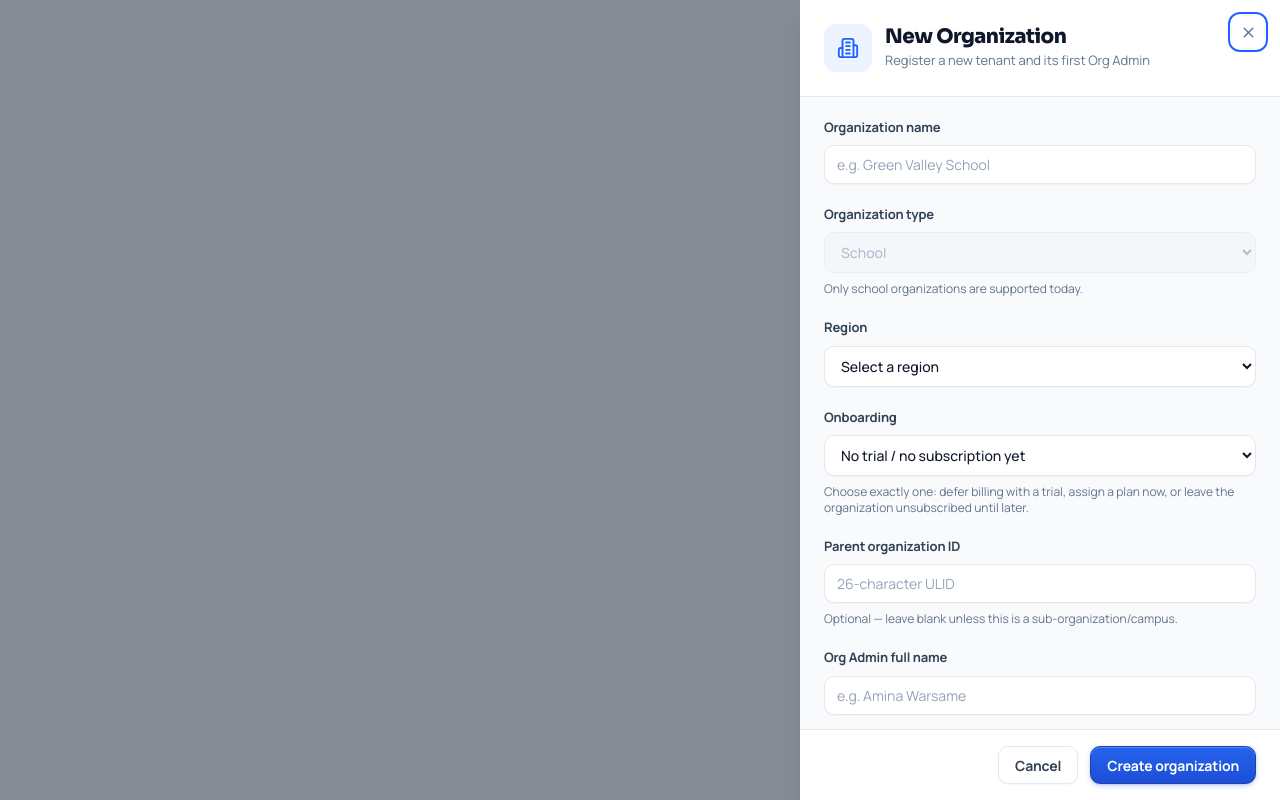
Scenario: CreateOrganizationForm › shows field-level validation errors and does not submit when required fields are missing
The width and height of the screenshot is (1280, 800).
Click the button "Create organization" at (1173, 765), box [1090,746,1256,784]
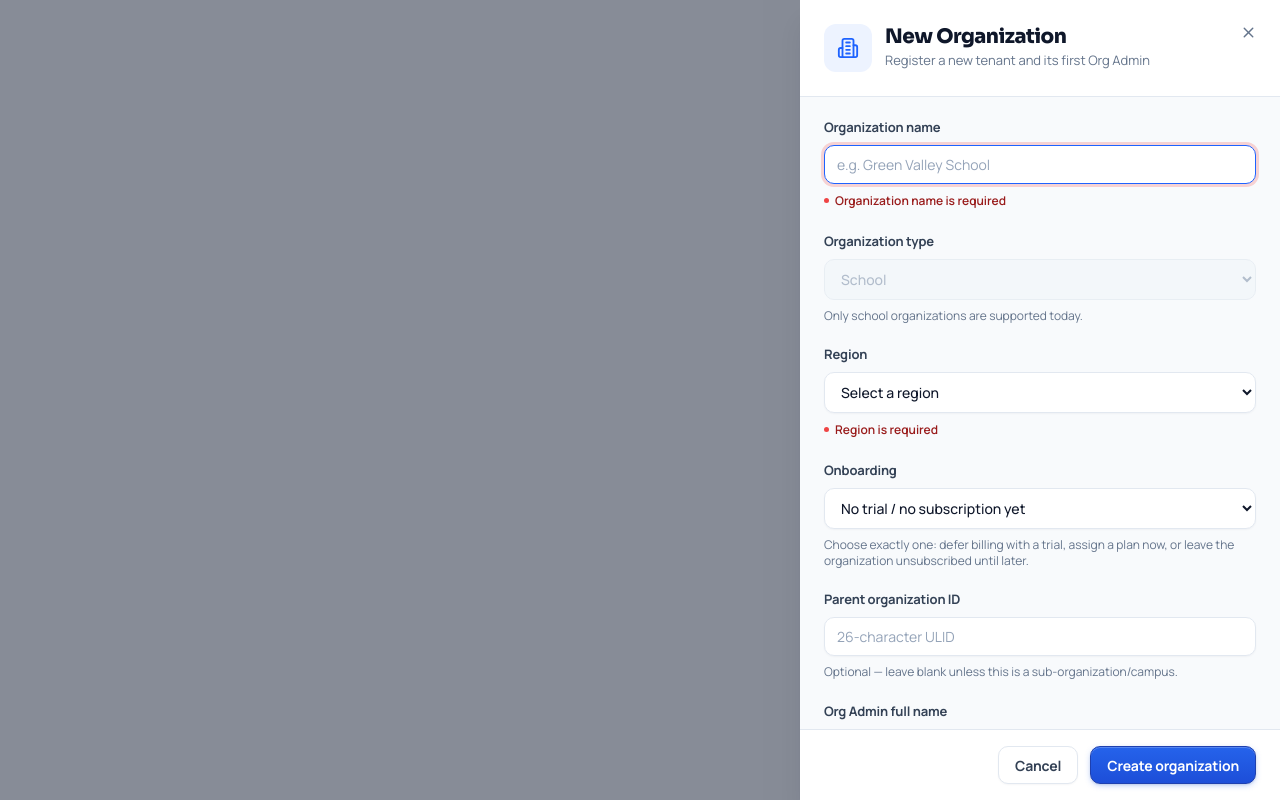
Now the text "Organization name is required" is shown, box [835,192,1006,209]
Now the text "Region is required" is shown, box [835,421,938,438]
